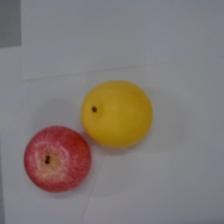red: (23, 124, 92, 195)
yellow: (80, 79, 156, 152)
